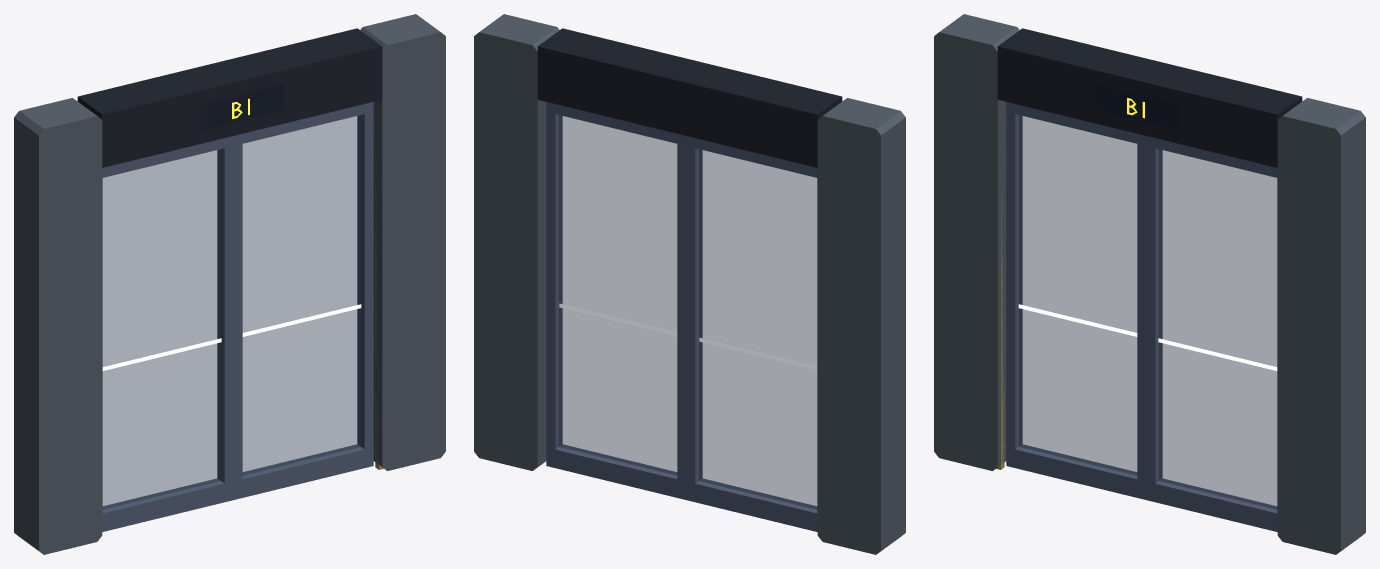
Rendered from res_elevator_shaft_door.glb.
3 views of the same model, side by side, from view 1: azimuth 30°, elevation 25°; view 2: azimuth 150°, elevation 25°; view 3: azimuth 330°, elevation 25° (orthographic).
Parts seen in each view (by area): view 1: concrete_jamb, laminated_glass.001, laminated_glass, header, rail.001, rail, floor_display, brass_reveal, safety_band.001, safety_band; view 2: concrete_jamb, laminated_glass.001, laminated_glass, header, rail.001, rail, safety_band, safety_band.001; view 3: concrete_jamb, laminated_glass, laminated_glass.001, header, rail, rail.001, floor_display, brass_reveal, safety_band, safety_band.001.
Part boxes in pixels (left/top/right/bottom): concrete_jamb: left=14, top=14, right=445, bottom=554; laminated_glass.001: left=243, top=115, right=360, bottom=475; laminated_glass: left=103, top=149, right=220, bottom=509; header: left=77, top=28, right=382, bottom=167; rail.001: left=233, top=102, right=373, bottom=499; rail: left=102, top=136, right=233, bottom=531; floor_display: left=201, top=84, right=283, bottom=130; brass_reveal: left=375, top=102, right=383, bottom=469; safety_band.001: left=242, top=304, right=361, bottom=336; safety_band: left=102, top=338, right=221, bottom=370; concrete_jamb: left=474, top=14, right=905, bottom=554; laminated_glass.001: left=559, top=115, right=676, bottom=475; laminated_glass: left=699, top=149, right=816, bottom=509; header: left=537, top=28, right=842, bottom=167; rail.001: left=546, top=102, right=686, bottom=499; rail: left=686, top=136, right=817, bottom=531; safety_band: left=699, top=338, right=817, bottom=369; safety_band.001: left=559, top=303, right=677, bottom=335; concrete_jamb: left=934, top=14, right=1365, bottom=554; laminated_glass: left=1019, top=115, right=1136, bottom=475; laminated_glass.001: left=1159, top=149, right=1276, bottom=509; header: left=997, top=28, right=1302, bottom=167; rail: left=1006, top=102, right=1146, bottom=499; rail.001: left=1146, top=136, right=1277, bottom=531; floor_display: left=1096, top=84, right=1178, bottom=130; brass_reveal: left=996, top=101, right=1004, bottom=469; safety_band: left=1018, top=304, right=1137, bottom=336; safety_band.001: left=1158, top=338, right=1277, bottom=370.
Size of the model in its own units: 3.2 by 3.2 by 0.34.
